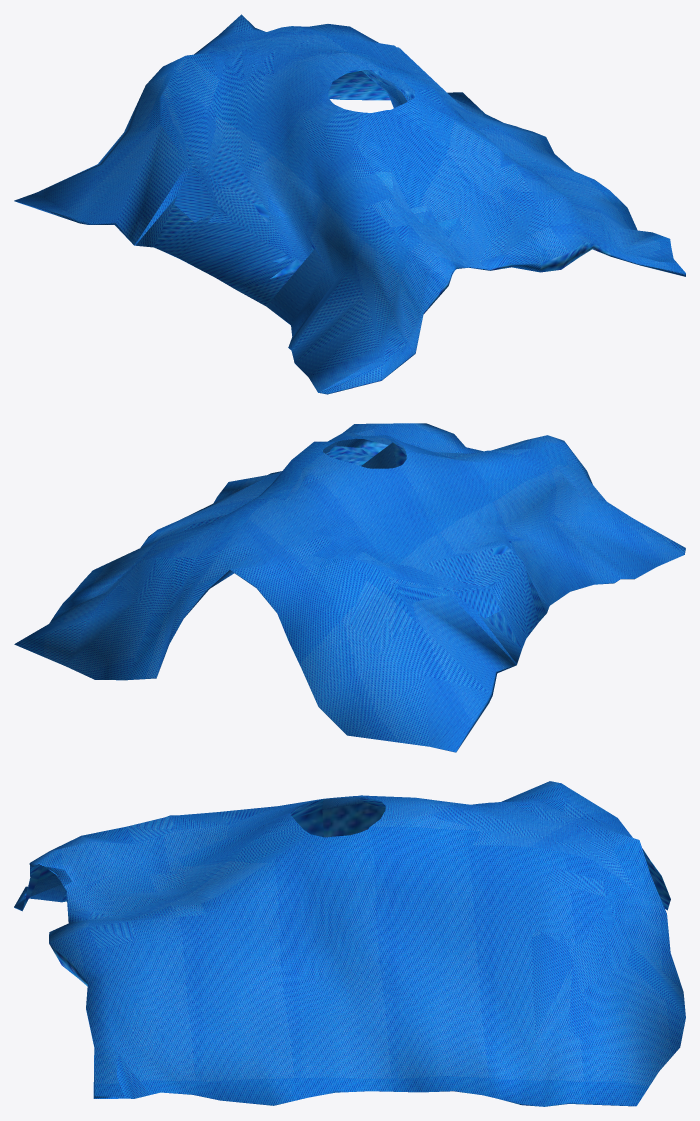
The model's file is Sergical_Cloth_N.fbx.
3 views of the same model, one above another, from view 1: azimuth 30°, elevation 25°; view 2: azimuth 150°, elevation 25°; view 3: azimuth 270°, elevation 25° (orthographic). The views are drawn at different scales.
Visible parts, largest first — view 1: Plane; view 2: Plane; view 3: Plane.
Part boxes in pixels (x1,y1,x2,y2): Plane: (14,14,685,394); Plane: (14,423,685,752); Plane: (14,781,685,1106).
Size of the model in its own units: 49.25 by 17.16 by 56.7.
1 material, 1 textured.
